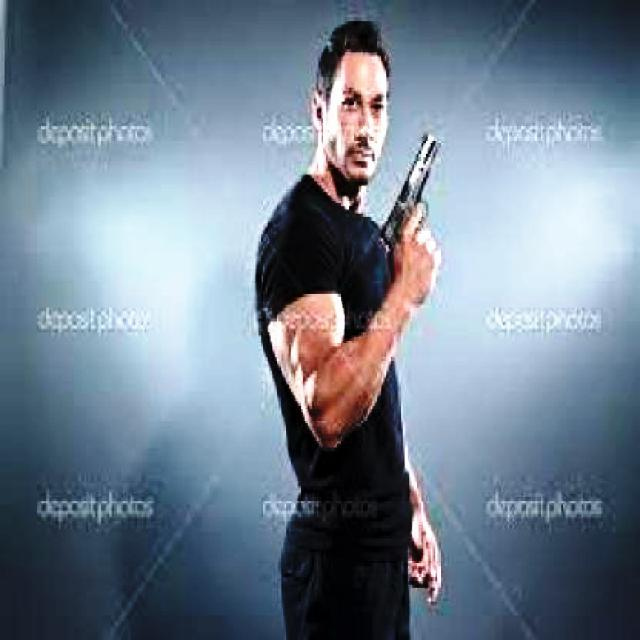Gun: (382, 120, 456, 273)
